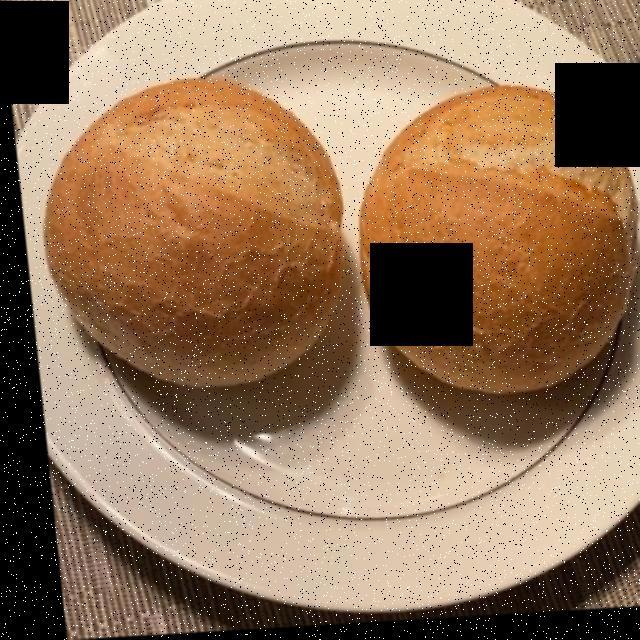bread: (39, 78, 617, 392)
